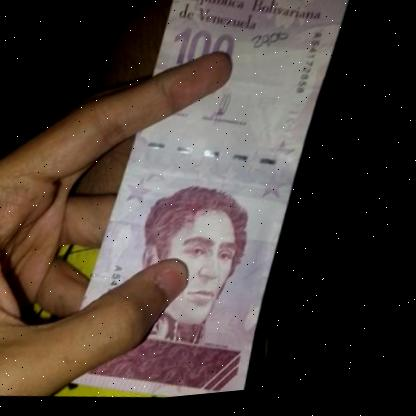one_hundred-front-vef: (67, 0, 342, 409)
